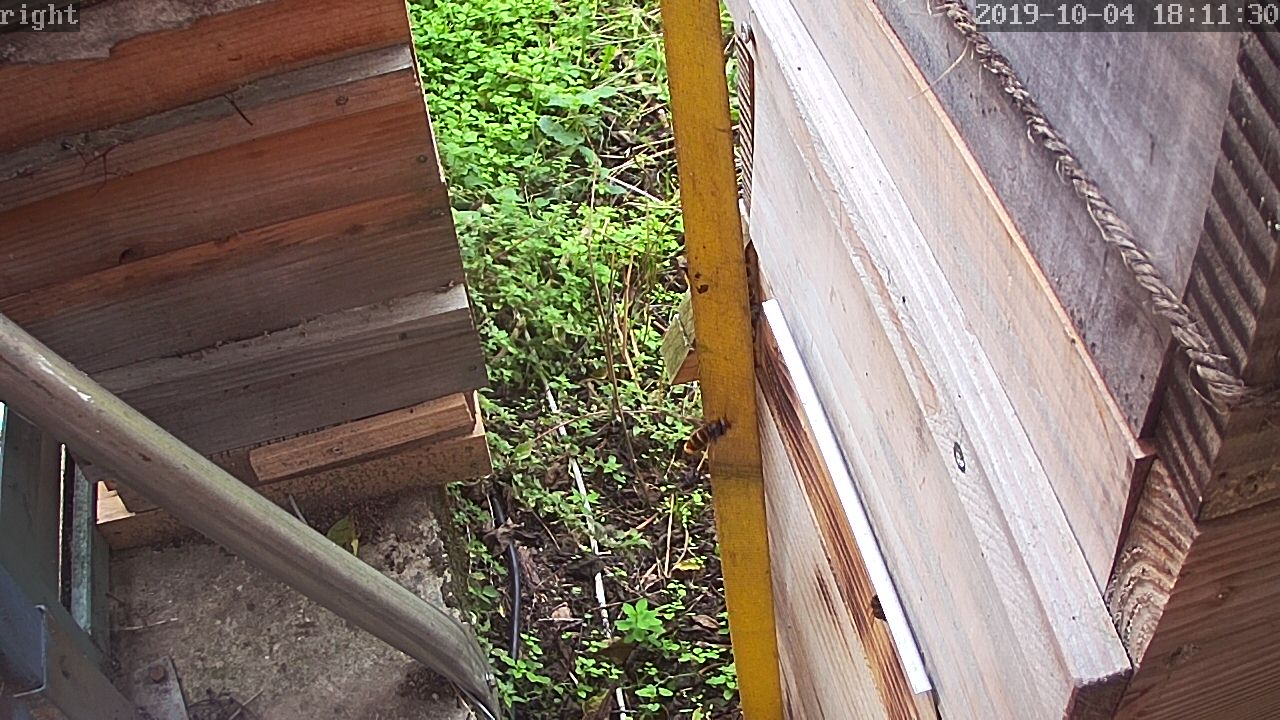bee: (859, 590, 887, 619)
hornet: (674, 405, 740, 462)
